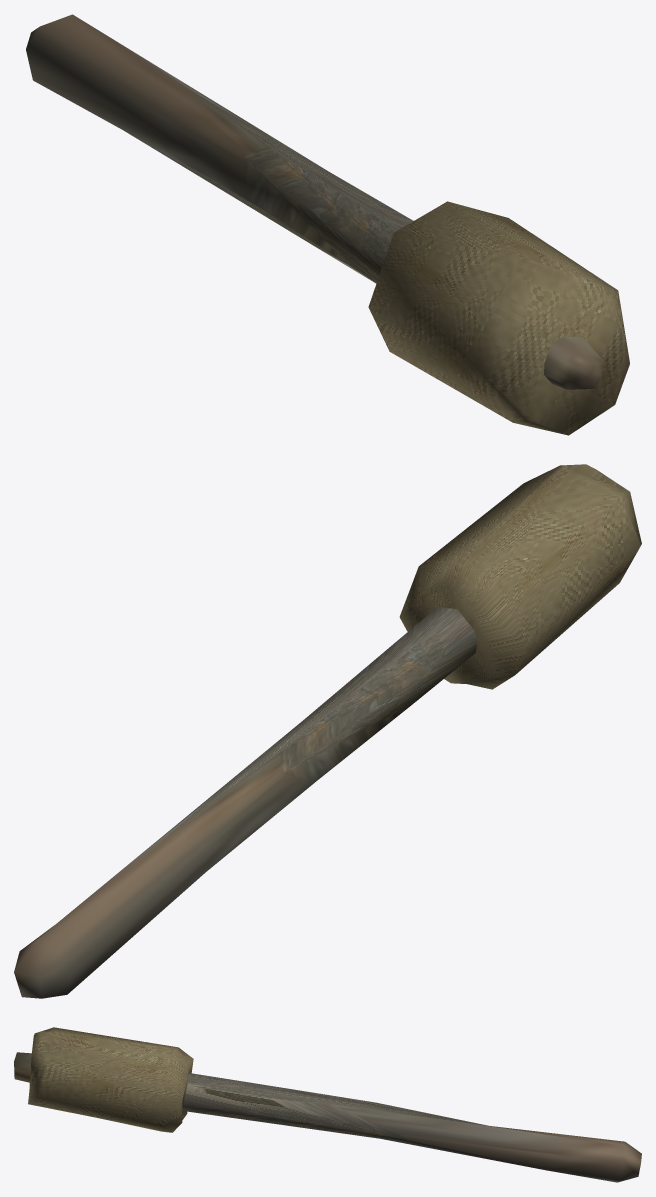
Rendered from torch.glb.
3 views of the same model, one above another, from view 1: azimuth 30°, elevation 25°; view 2: azimuth 150°, elevation 25°; view 3: azimuth 270°, elevation 25° (orthographic). The views are drawn at different scales.
Parts seen in each view (by area): view 1: cloth, torch.001; view 2: torch.001, cloth; view 3: torch.001, cloth.
Part boxes in pixels (x1,y1,x2,y2): cloth: [368, 201, 629, 435]; torch.001: [26, 14, 605, 389]; torch.001: [14, 607, 476, 998]; cloth: [399, 464, 641, 689]; torch.001: [14, 1052, 641, 1182]; cloth: [28, 1027, 193, 1132].
Size of the model in its own units: 0.9287 by 1.22 by 5.36.
2 materials, 2 textured.
